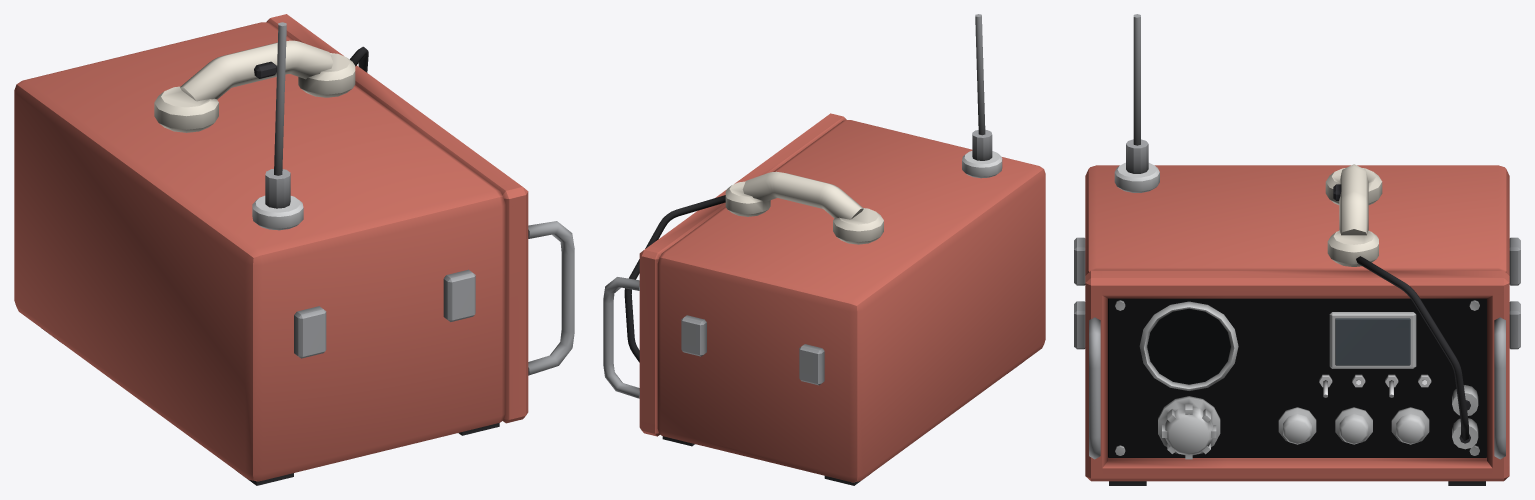
The model's file is junk_transceiver.glb.
The picture shows the model from 3 angles, left to right: view 1: azimuth 30°, elevation 25°; view 2: azimuth 150°, elevation 25°; view 3: azimuth 270°, elevation 25°; orthographic projection. The views are drawn at different scales.
Visible parts, largest first — view 1: PART; view 2: PART; view 3: PART.
Part boxes in pixels (bbox=[...]): PART: bbox=[14, 14, 574, 485]; PART: bbox=[603, 14, 1045, 485]; PART: bbox=[1074, 14, 1520, 485].
Size of the model in its own units: 0.352 by 0.4501 by 0.474.
